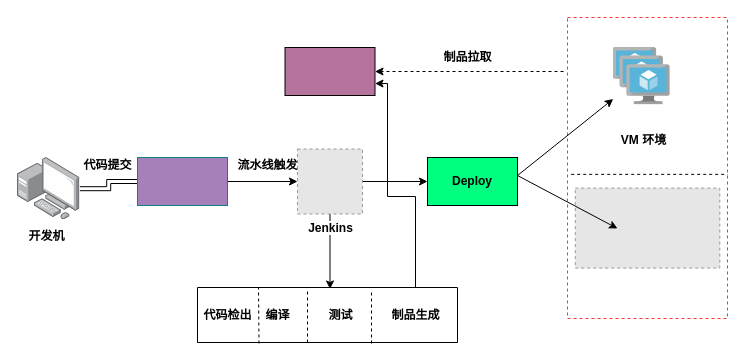
Image size: 745x362. Some labels were removed from this diagram. Grey dashed boxes stand in for pictures. Each missing label, with the centre of its shape:
"代码仓库" belongs at [182,181].
"制品库" belongs at [329,71].
